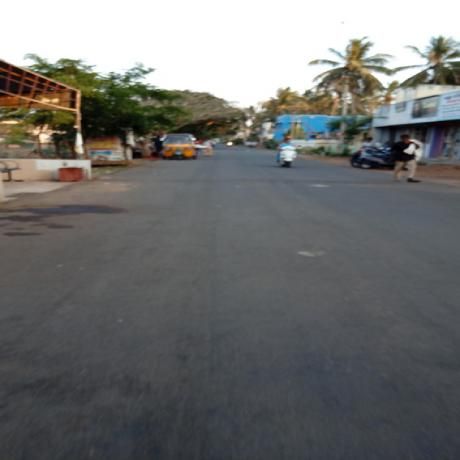Speed Bump: (84, 174, 440, 185)
